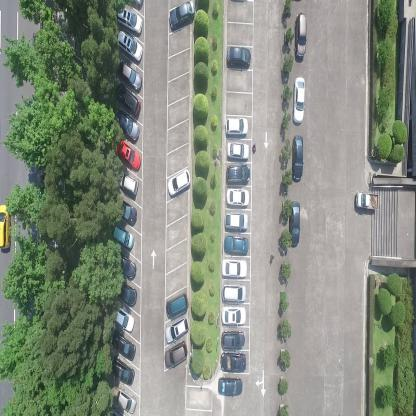car: (114, 83, 140, 118), (114, 108, 139, 144), (116, 30, 144, 62), (116, 57, 142, 91), (116, 137, 141, 172), (168, 0, 195, 30), (110, 330, 136, 361), (108, 356, 134, 387), (116, 4, 143, 33), (164, 338, 188, 368), (164, 314, 188, 344), (167, 166, 191, 196), (113, 196, 137, 226), (114, 278, 138, 308), (115, 168, 139, 197), (166, 290, 189, 319), (294, 11, 307, 62), (226, 43, 252, 68), (115, 251, 137, 280), (291, 135, 304, 182), (293, 74, 305, 124), (114, 304, 134, 333), (224, 115, 249, 138), (221, 351, 246, 374), (112, 224, 135, 249), (224, 234, 250, 256), (218, 376, 244, 398), (288, 200, 300, 246), (226, 163, 251, 185), (115, 388, 137, 413), (221, 259, 249, 278), (0, 203, 11, 251), (221, 328, 245, 350), (224, 211, 249, 232), (221, 305, 246, 326), (356, 190, 378, 213), (226, 141, 250, 161), (226, 187, 250, 207), (222, 283, 247, 302)
